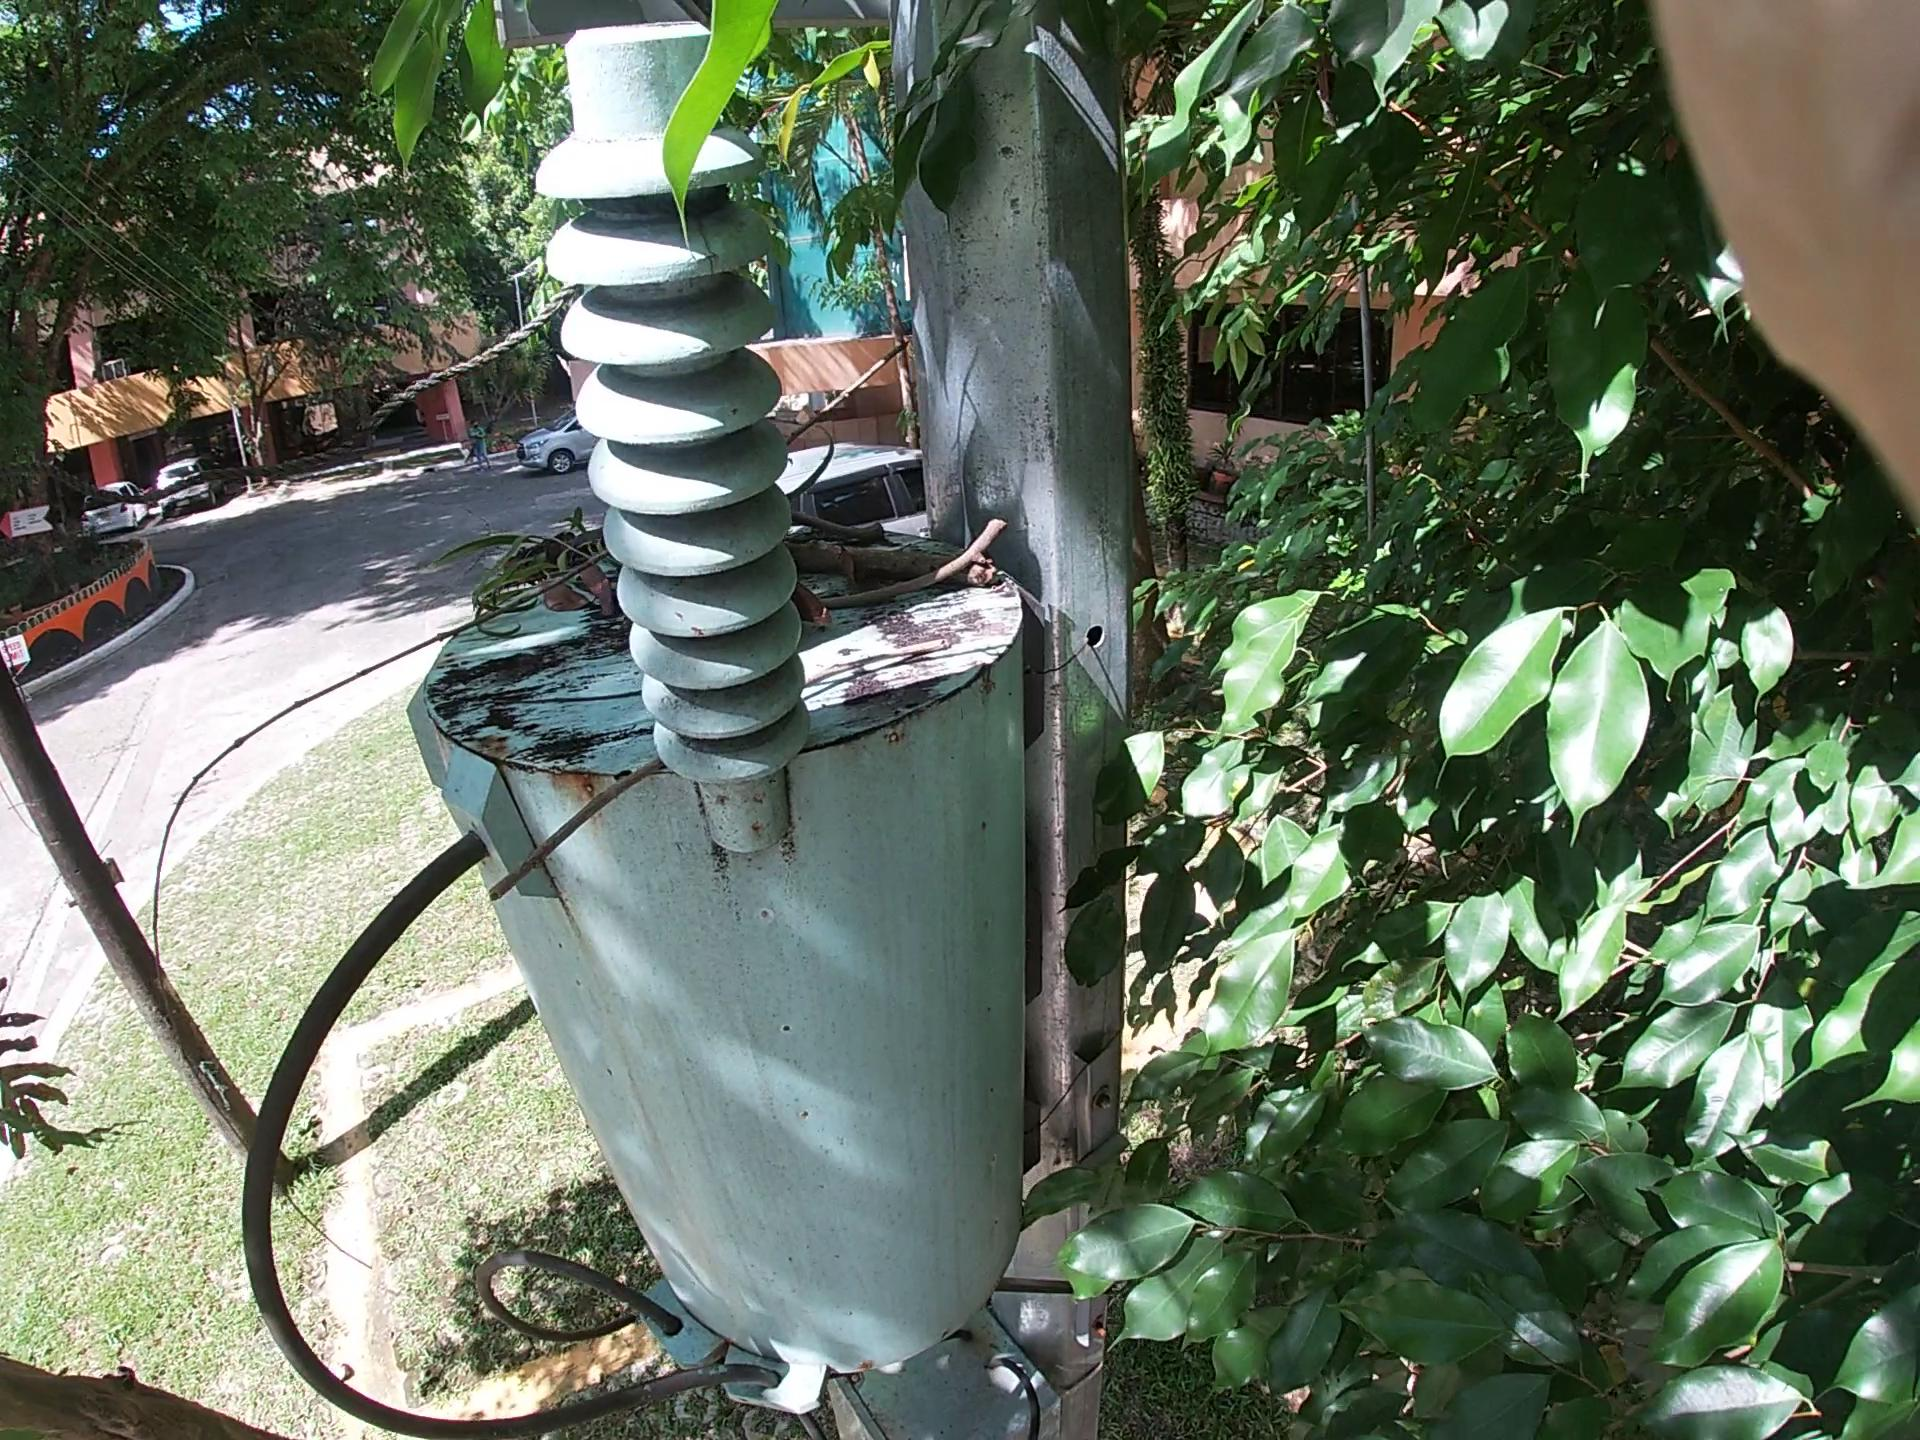branch with leaves: (420, 461, 1079, 594)
tree branch: (83, 277, 962, 954), (485, 597, 962, 964), (754, 517, 1017, 666)
